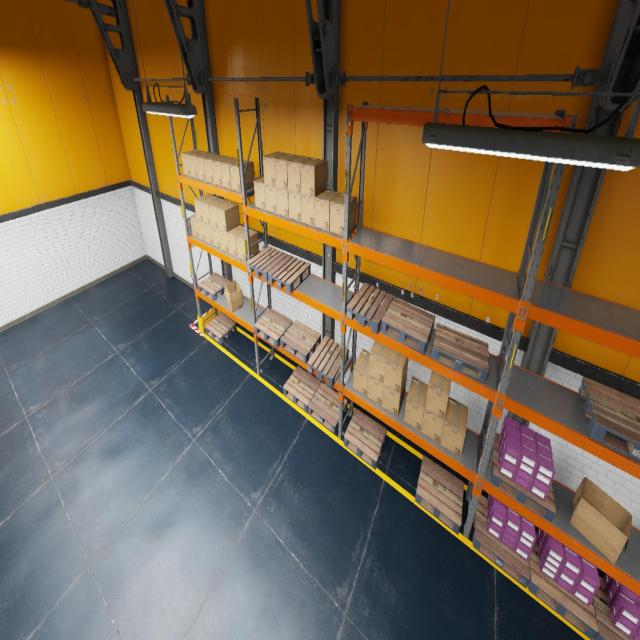box: (570, 477, 632, 564), (440, 397, 468, 458), (404, 376, 428, 432), (425, 370, 451, 420), (382, 373, 407, 418), (330, 193, 356, 236), (384, 348, 408, 394), (315, 190, 341, 231), (300, 158, 327, 197), (287, 156, 313, 193), (274, 153, 300, 190), (368, 341, 390, 383), (352, 348, 370, 397), (421, 407, 444, 445), (263, 152, 287, 186), (230, 160, 254, 192), (236, 229, 259, 261), (216, 202, 240, 232), (203, 154, 226, 184), (195, 152, 218, 182), (208, 199, 230, 229), (212, 156, 234, 186), (188, 151, 210, 179), (201, 196, 222, 225), (224, 280, 243, 312), (181, 149, 202, 177), (227, 225, 245, 257), (194, 194, 214, 222), (367, 375, 384, 407), (220, 158, 237, 189), (301, 194, 315, 226), (253, 177, 266, 210), (288, 190, 301, 222), (264, 184, 277, 213), (276, 188, 288, 218), (218, 229, 228, 253), (211, 226, 221, 249), (203, 223, 213, 245), (196, 220, 206, 242), (190, 214, 198, 238)
pallets: (528, 532, 598, 640), (491, 433, 556, 522), (472, 495, 530, 588), (578, 377, 640, 462), (415, 455, 464, 534), (431, 323, 489, 384), (381, 298, 435, 354), (592, 576, 640, 639), (344, 408, 386, 469), (346, 283, 394, 334), (307, 336, 348, 388), (308, 382, 347, 434), (280, 320, 321, 364), (283, 367, 321, 412), (268, 255, 310, 293), (254, 308, 293, 348), (246, 246, 288, 281), (205, 313, 236, 344), (198, 273, 230, 301)
